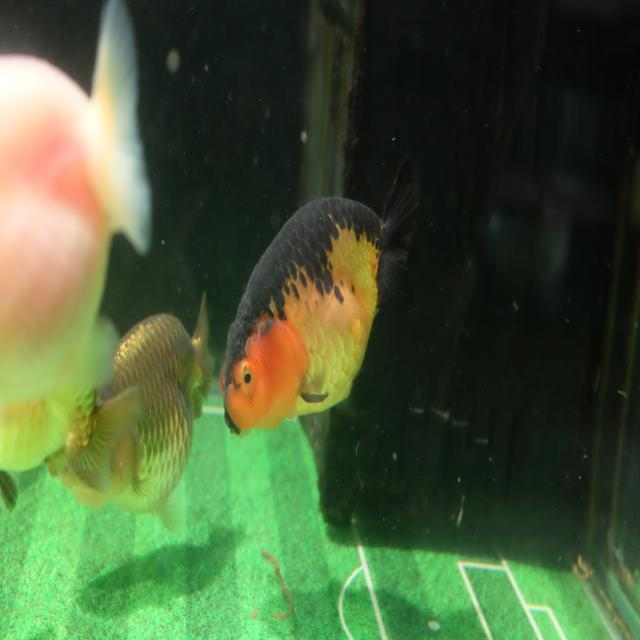Tilapia: (0, 1, 155, 398), (218, 148, 422, 442), (50, 290, 215, 532)
